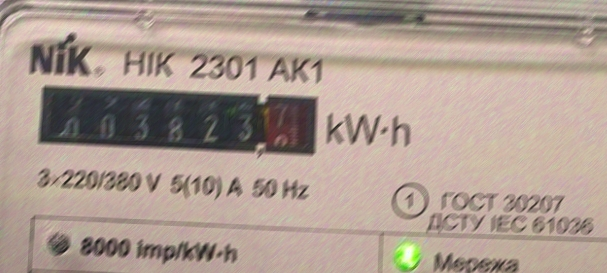0: (97, 109, 117, 136), (63, 112, 81, 135)
2: (201, 110, 221, 142)
3: (236, 110, 255, 140), (132, 109, 151, 138)
7: (274, 101, 291, 129)
8: (166, 112, 184, 140)
9: (65, 91, 84, 110)
screen: (32, 79, 322, 158)
